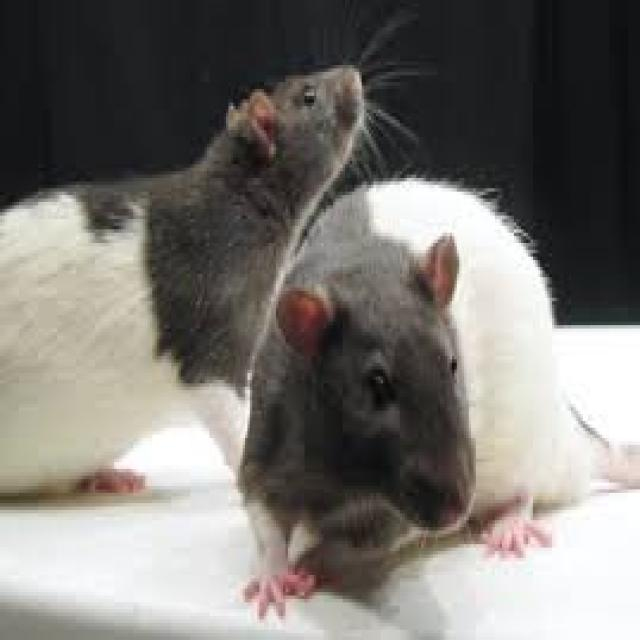rat: (238, 178, 638, 613), (0, 65, 364, 486)
